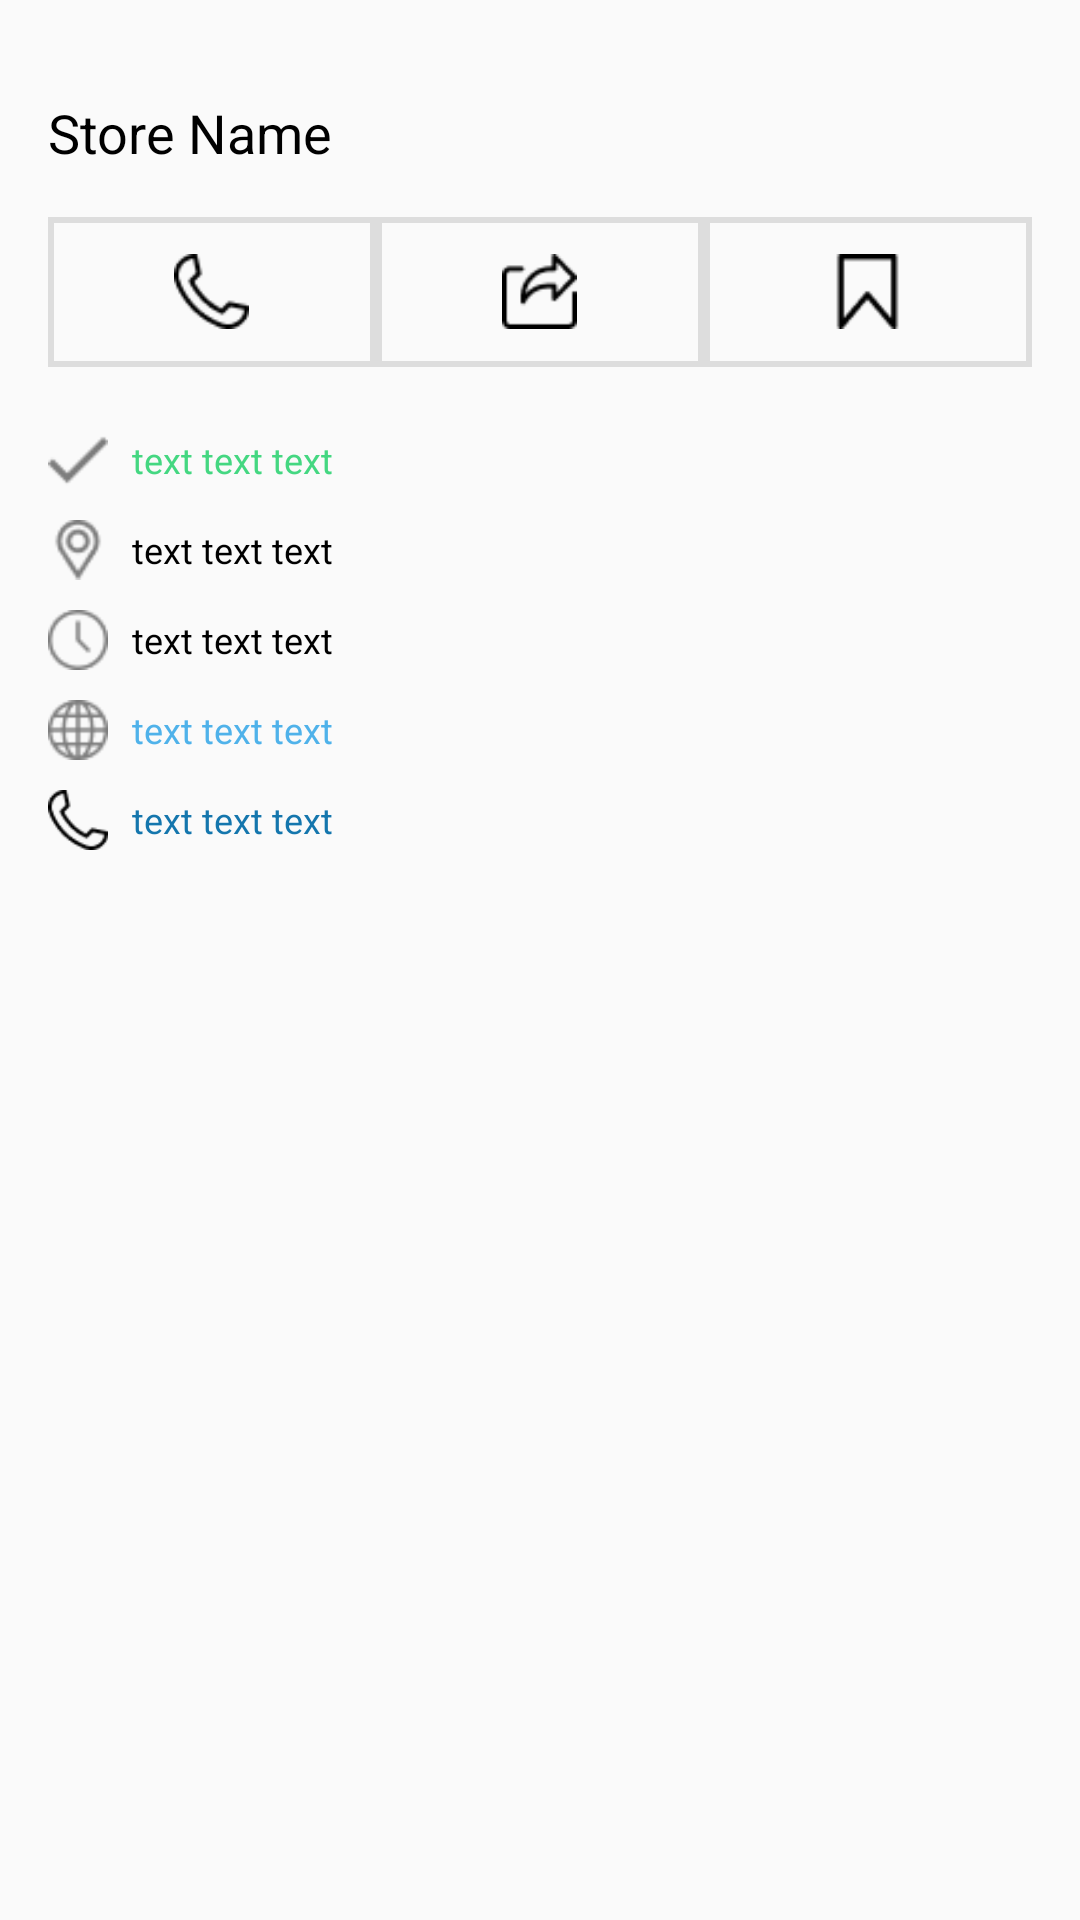

Screen size 1080w x 1920h. Icon name, then its center in pixels as [x,y]:
bookmark: [867,291]
check: [78,460]
clock: [78,640]
internet: [78,730]
phone: [211,291], [78,820]
pin: [78,550]
share: [539,291]
